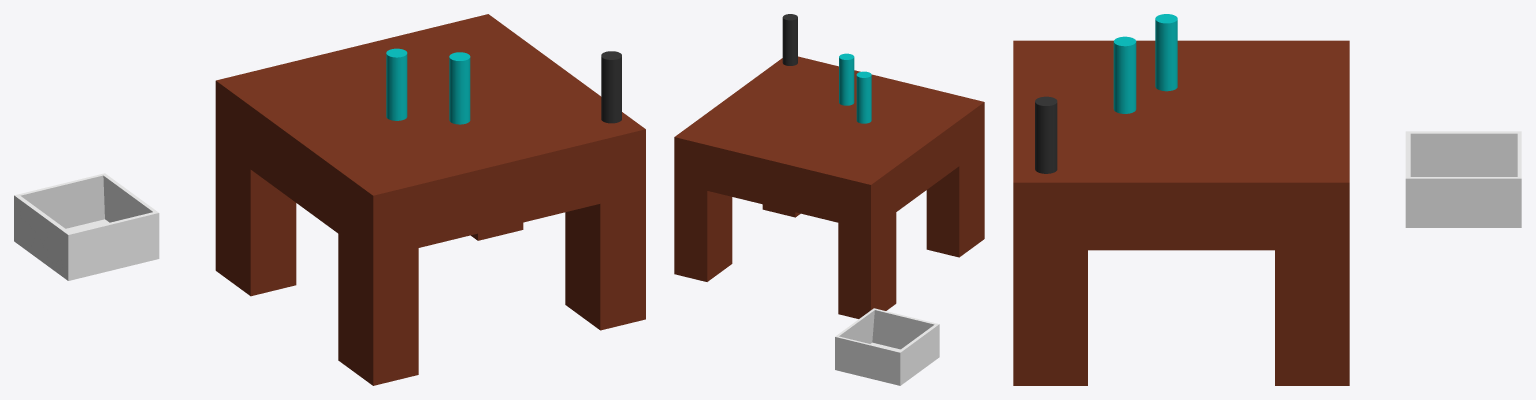
The model's file is can_world_3_cans.dae.
3 views of the same model, side by side, from view 1: azimuth 30°, elevation 25°; view 2: azimuth 150°, elevation 25°; view 3: azimuth 270°, elevation 25° (orthographic). The views are drawn at different scales.
Visible parts, largest first — view 1: base (×7), SketchUp (×2); view 2: base (×7), SketchUp (×2); view 3: base (×6), SketchUp (×2).
Boxes of the visible parts, left/top/right/bottom form: base (×7): left=215, top=14, right=645, bottom=385; SketchUp (×2): left=14, top=173, right=159, bottom=280; base (×7): left=674, top=14, right=984, bottom=318; SketchUp (×2): left=835, top=308, right=939, bottom=385; base (×6): left=1013, top=14, right=1349, bottom=385; SketchUp (×2): left=1405, top=131, right=1521, bottom=227.
Bounding box in the file's own units: 1.3 × 1.36 × 0.811.
